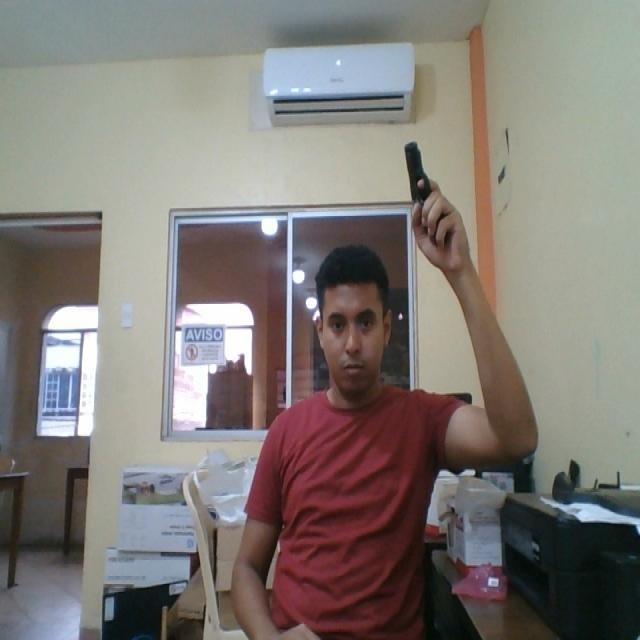weapon: (403, 139, 450, 246)
